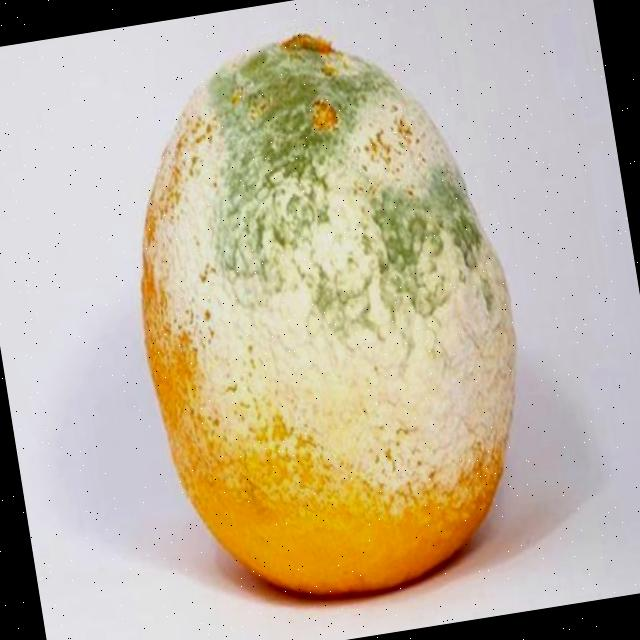rotten orange: (97, 4, 554, 624)
